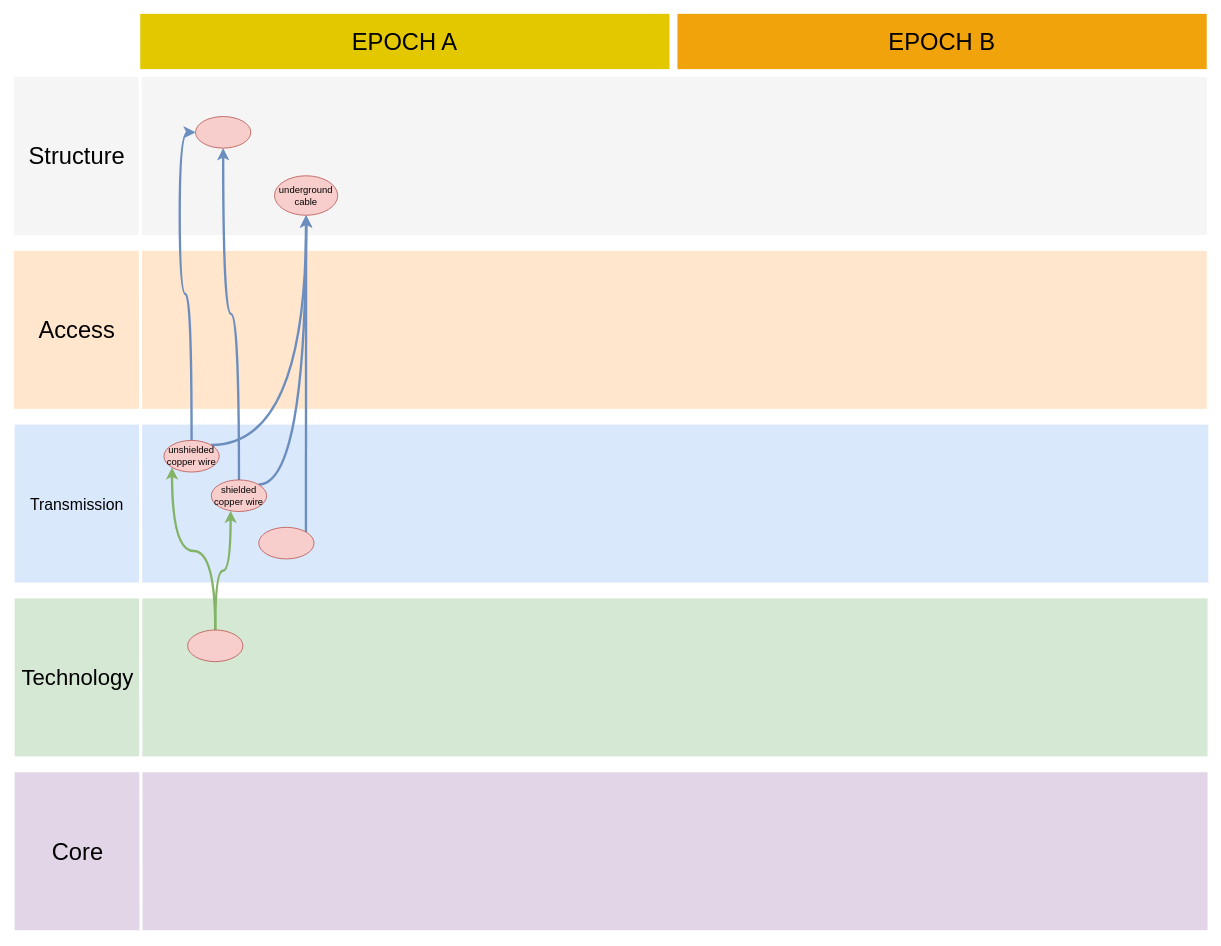
This 1221x946 diagram has some shape labels left out. Each missing label, with the box of its shape:
56kbit/s: (187, 629, 243, 662)
coaxial cable: (258, 527, 314, 559)
Pole: (195, 116, 251, 148)
